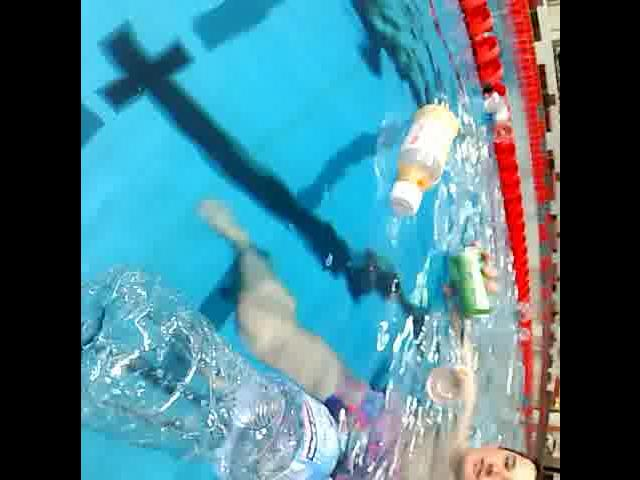Bottle: (81, 260, 354, 480), (384, 96, 460, 226)
Can: (446, 237, 494, 322)
